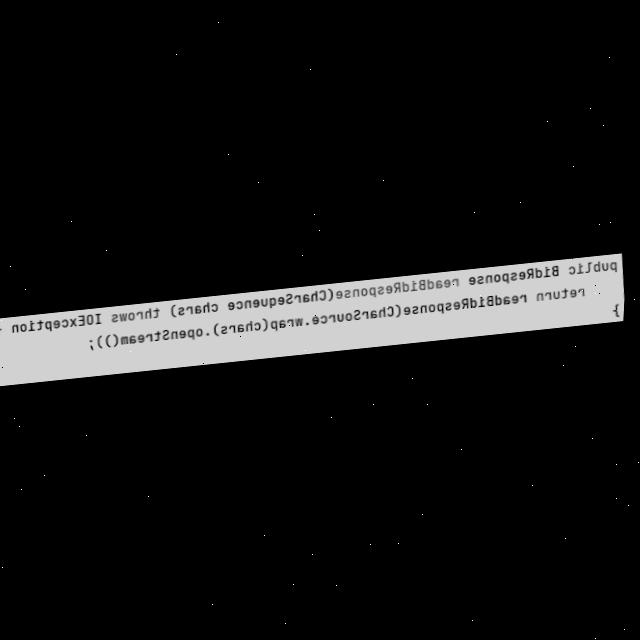code_screen: (0, 253, 624, 385)
